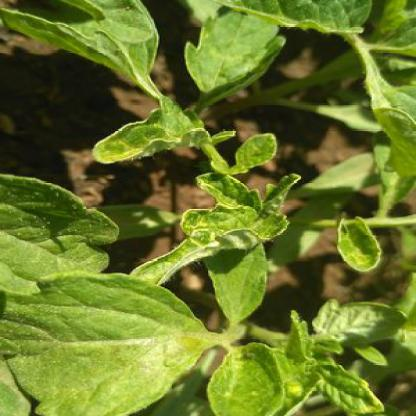tomato leaf mosaic virus: (11, 272, 208, 409), (129, 171, 300, 284), (180, 4, 281, 115), (73, 109, 237, 170), (182, 225, 280, 322), (198, 339, 287, 412), (311, 296, 405, 349), (300, 359, 383, 415), (323, 214, 392, 278)
